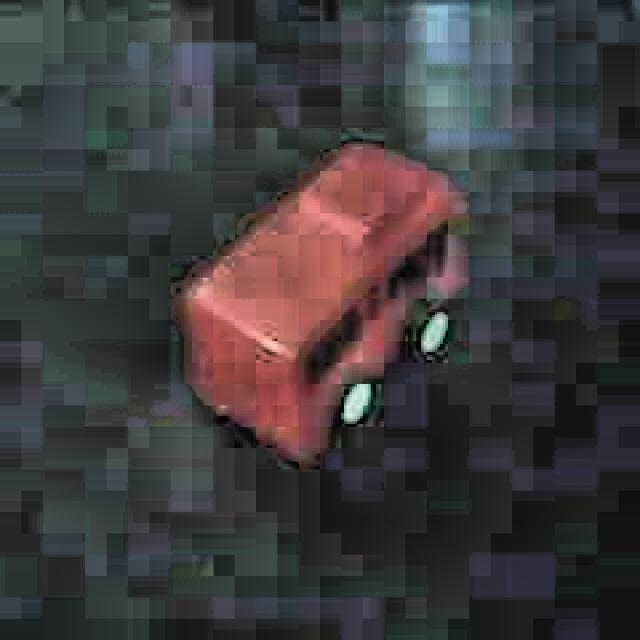bus: (174, 136, 469, 467)
